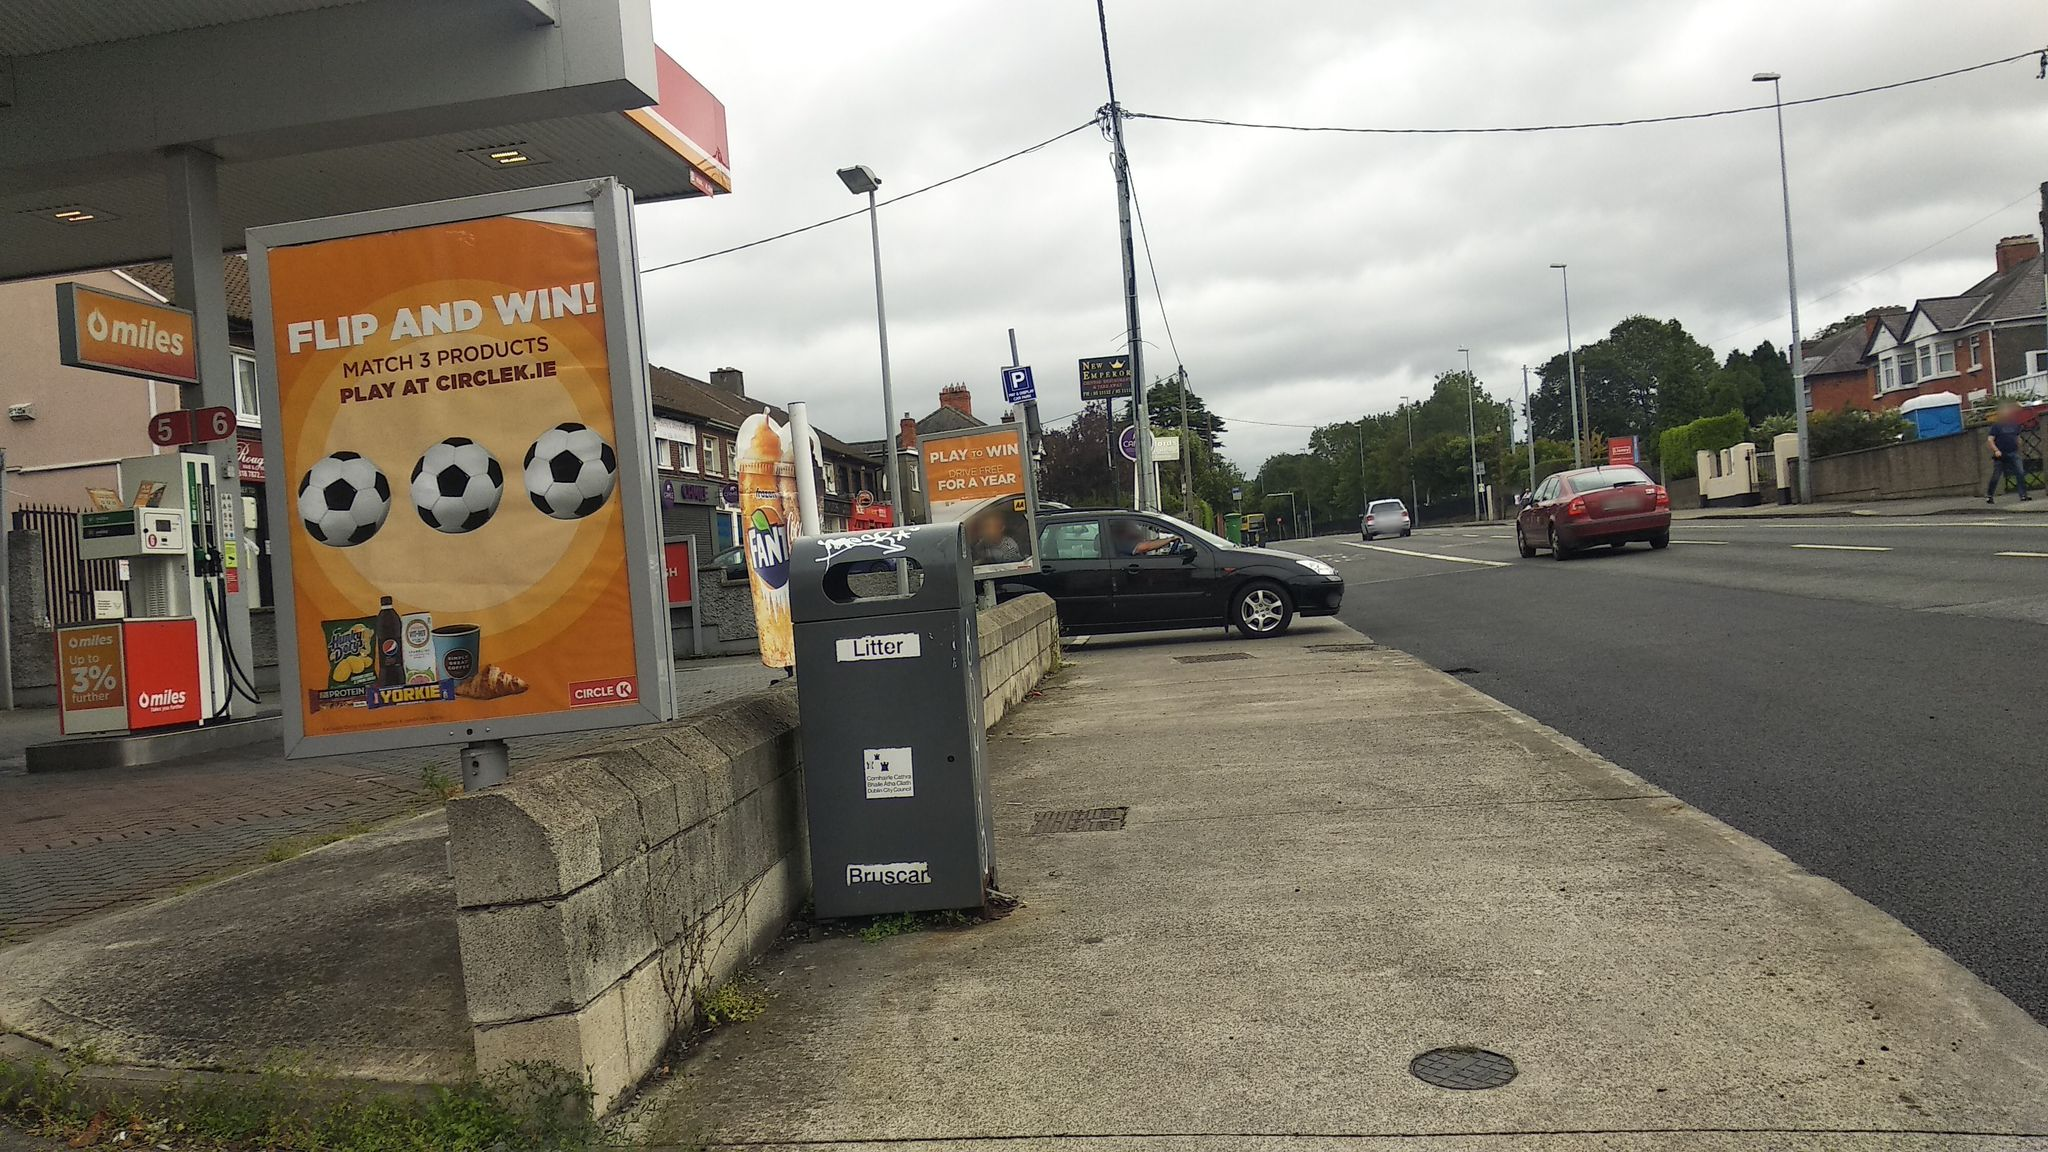property sign: (1601, 422, 1651, 473)
